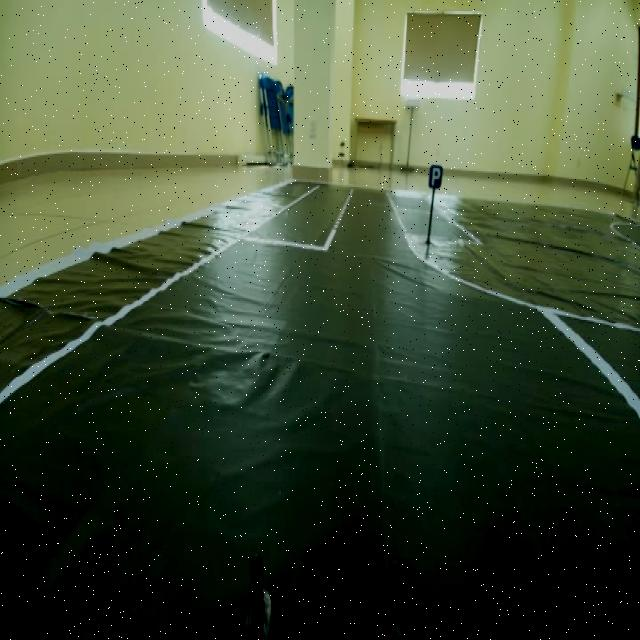parking: (424, 157, 445, 196)
